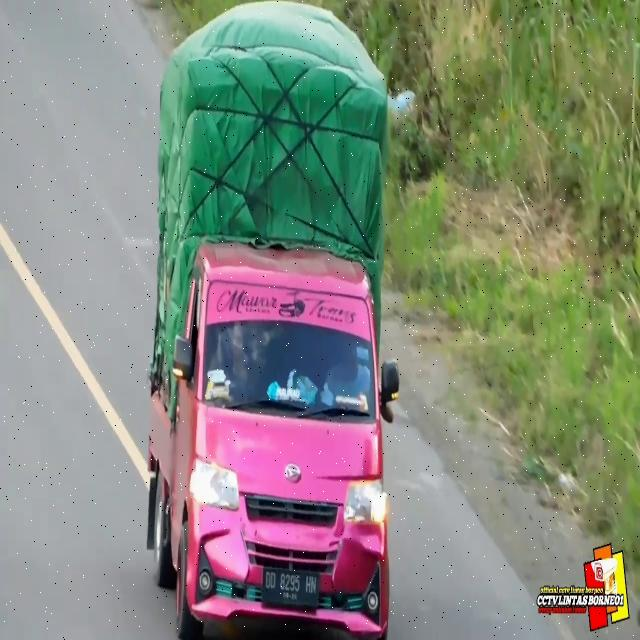Golongan IVB: (146, 242, 400, 640)
